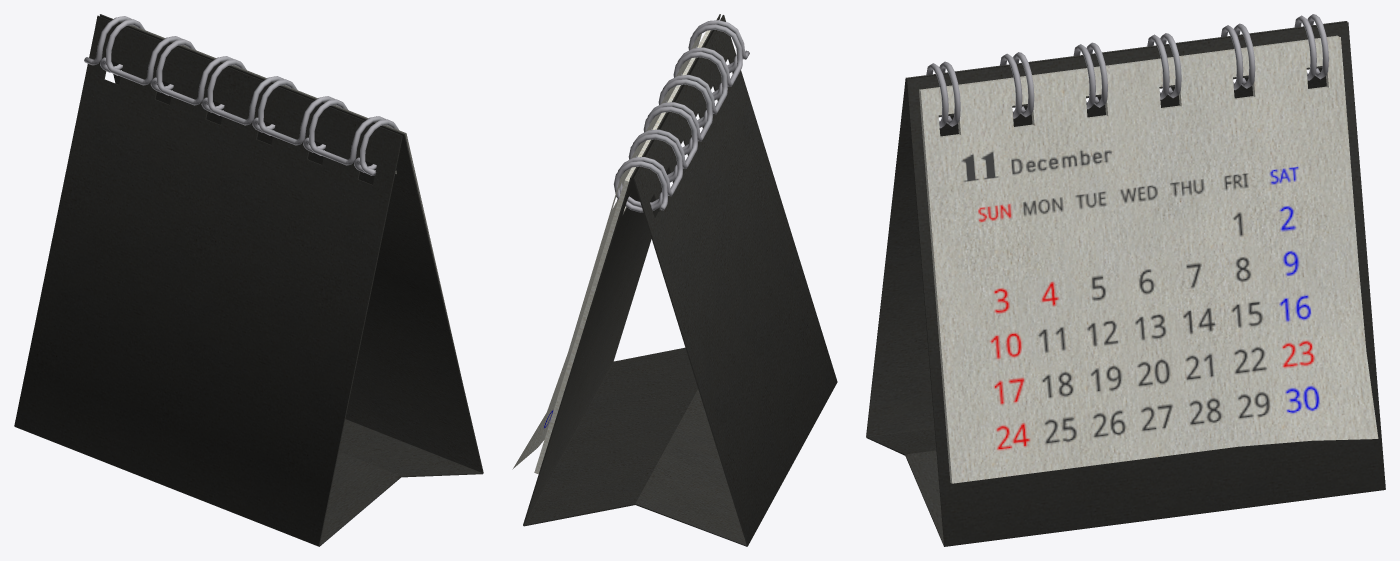
Rendered from Date.glb.
The picture shows the model from 3 angles, left to right: view 1: azimuth 30°, elevation 25°; view 2: azimuth 150°, elevation 25°; view 3: azimuth 270°, elevation 25°; orthographic projection. The views are drawn at different scales.
Visible parts, largest first — view 1: DeskCalendar.001_DeskCalendar_0.001, DeskCalendar_DeskCalendar_0.001, DeskCalendar.003_DeskCalendar_0.001; view 2: DeskCalendar.001_DeskCalendar_0.001, DeskCalendar_DeskCalendar_0.001, DeskCalendar.003_DeskCalendar_0.001, DeskCalendar.002_DeskCalendar_0.001; view 3: DeskCalendar.003_DeskCalendar_0.001, DeskCalendar.001_DeskCalendar_0.001, DeskCalendar_DeskCalendar_0.001, DeskCalendar.002_DeskCalendar_0.001.
Part boxes in pixels (x1,y1,x2,y2): DeskCalendar.001_DeskCalendar_0.001: (14,14,483,546); DeskCalendar_DeskCalendar_0.001: (84,16,398,175); DeskCalendar.003_DeskCalendar_0.001: (121,21,460,371); DeskCalendar.001_DeskCalendar_0.001: (523,14,837,546); DeskCalendar_DeskCalendar_0.001: (613,20,749,212); DeskCalendar.003_DeskCalendar_0.001: (512,33,701,469); DeskCalendar.002_DeskCalendar_0.001: (534,30,710,474); DeskCalendar.003_DeskCalendar_0.001: (922,37,1378,483); DeskCalendar.001_DeskCalendar_0.001: (866,21,1385,546); DeskCalendar_DeskCalendar_0.001: (926,14,1328,128); DeskCalendar.002_DeskCalendar_0.001: (919,35,1338,483).
Size of the model in its own units: 0.2035 by 0.2429 by 0.2703.
1 material, 1 textured.
